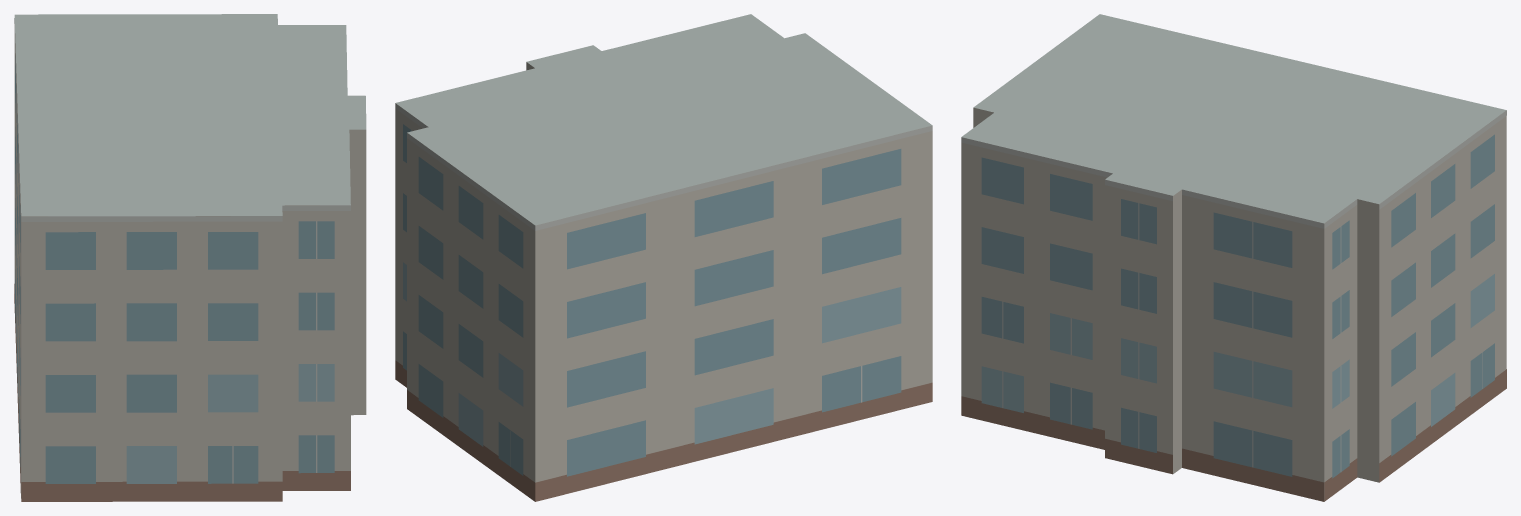
Rendered from survey-upis-32873658.glb.
3 views of the same model, side by side, from view 1: azimuth 30°, elevation 25°; view 2: azimuth 150°, elevation 25°; view 3: azimuth 270°, elevation 25° (orthographic). The views are drawn at different scales.
Visible parts, largest first — view 1: survey-upis-32873658.tmp; view 2: survey-upis-32873658.tmp; view 3: survey-upis-32873658.tmp.
Part boxes in pixels (bbox=[...]): survey-upis-32873658.tmp: bbox=[14, 14, 366, 501]; survey-upis-32873658.tmp: bbox=[395, 14, 932, 501]; survey-upis-32873658.tmp: bbox=[961, 14, 1506, 501].
Size of the model in its own units: 20.02 by 12.4 by 22.03.
